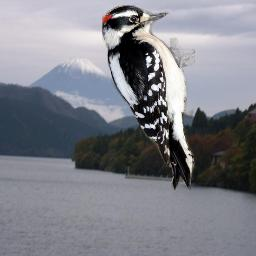Woodpecker: (102, 5, 195, 190)
